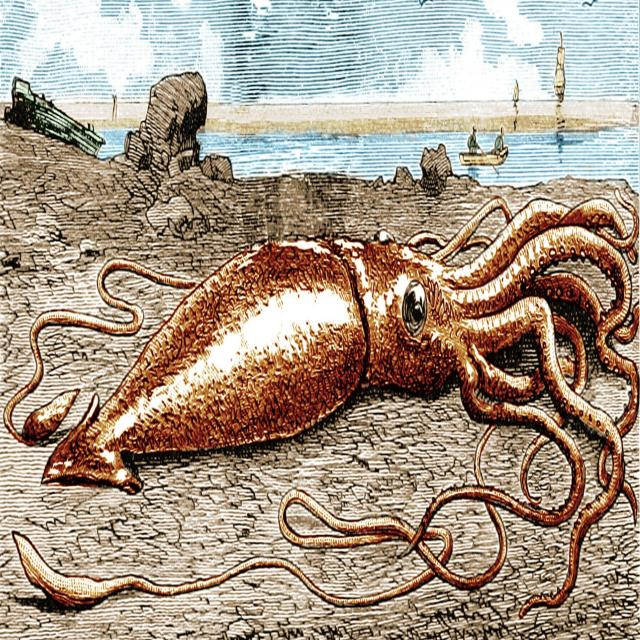squid: (4, 185, 640, 618)
